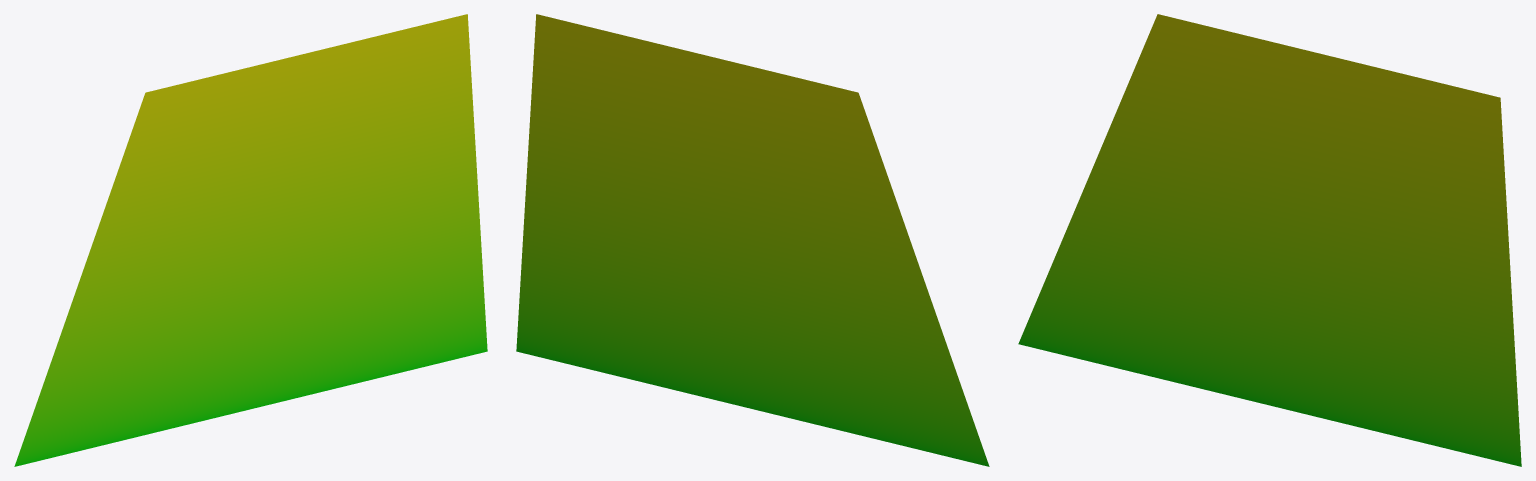
The model's file is Broadleaf Plantain_LOD4_Var2_sfhjc.fbx.
3 renders of one model, left to right at view 1: azimuth 30°, elevation 25°; view 2: azimuth 150°, elevation 25°; view 3: azimuth 330°, elevation 25°, orthographic. The views are drawn at different scales.
Visible parts, largest first — view 1: _39fe_Var2_LOD4; view 2: _39fe_Var2_LOD4; view 3: _39fe_Var2_LOD4.
Part boxes in pixels (x1,y1,x2,y2): _39fe_Var2_LOD4: (14,14,487,466); _39fe_Var2_LOD4: (516,14,989,466); _39fe_Var2_LOD4: (1018,14,1521,466).
Bounding box in the file's own units: 38.33 × 26.5 × 9.82e-06.
